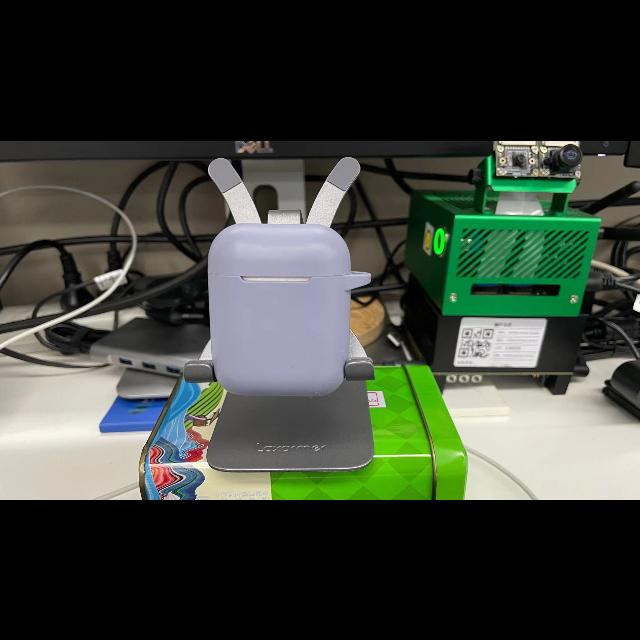airpods: (207, 224, 371, 396)
